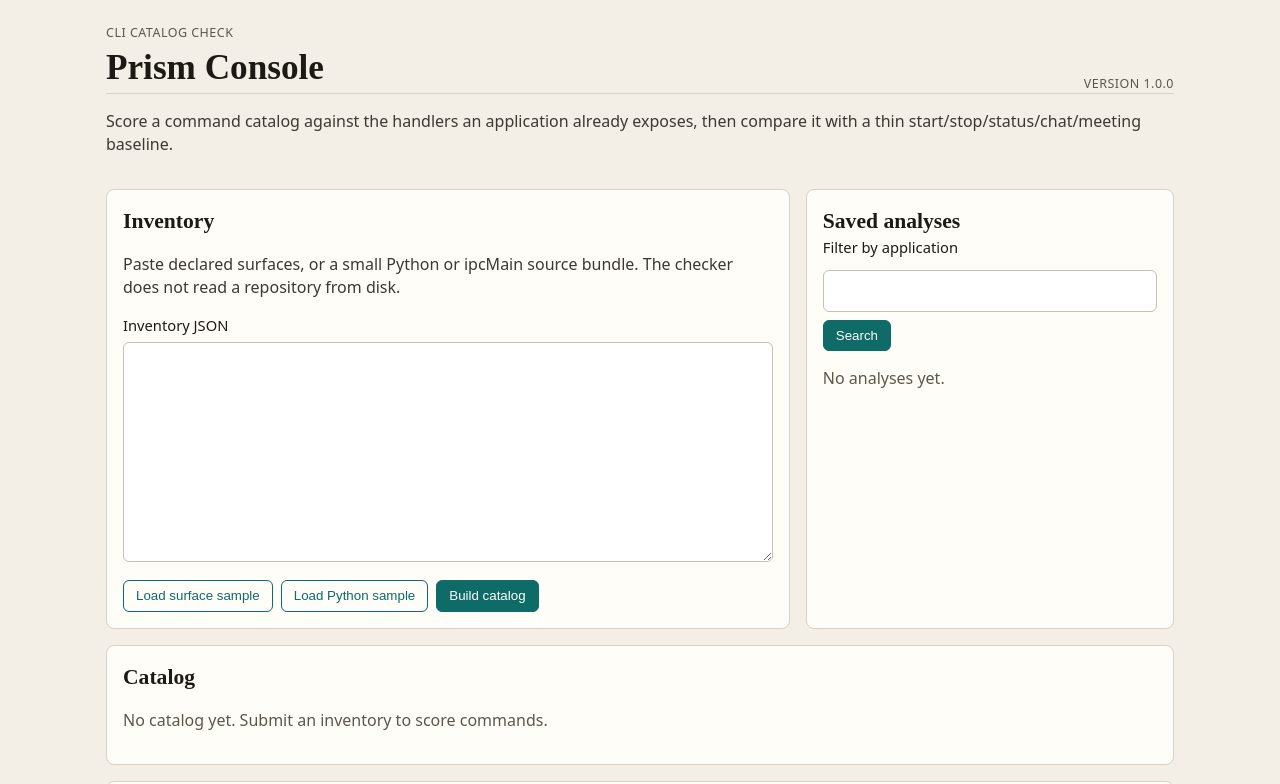
Scenario: rejects inventory text that is not JSON
The width and height of the screenshot is (1280, 784).
Expected: the text "No analyses yet." is shown, [823,367,945,389]
In the text box labelled "Inventory JSON": (448, 452) [123,342,773,562], type "not-json"
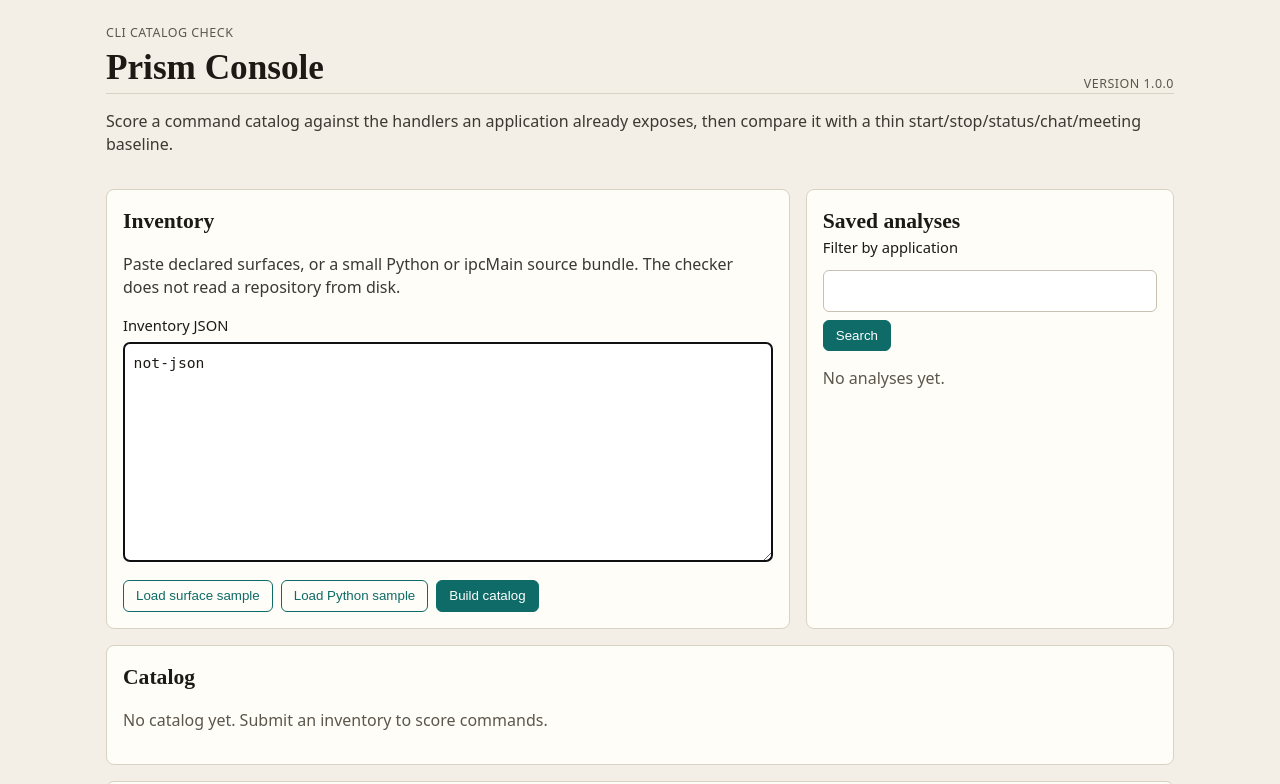
Click the button "Build catalog": (487, 596) [436,580,539,612]
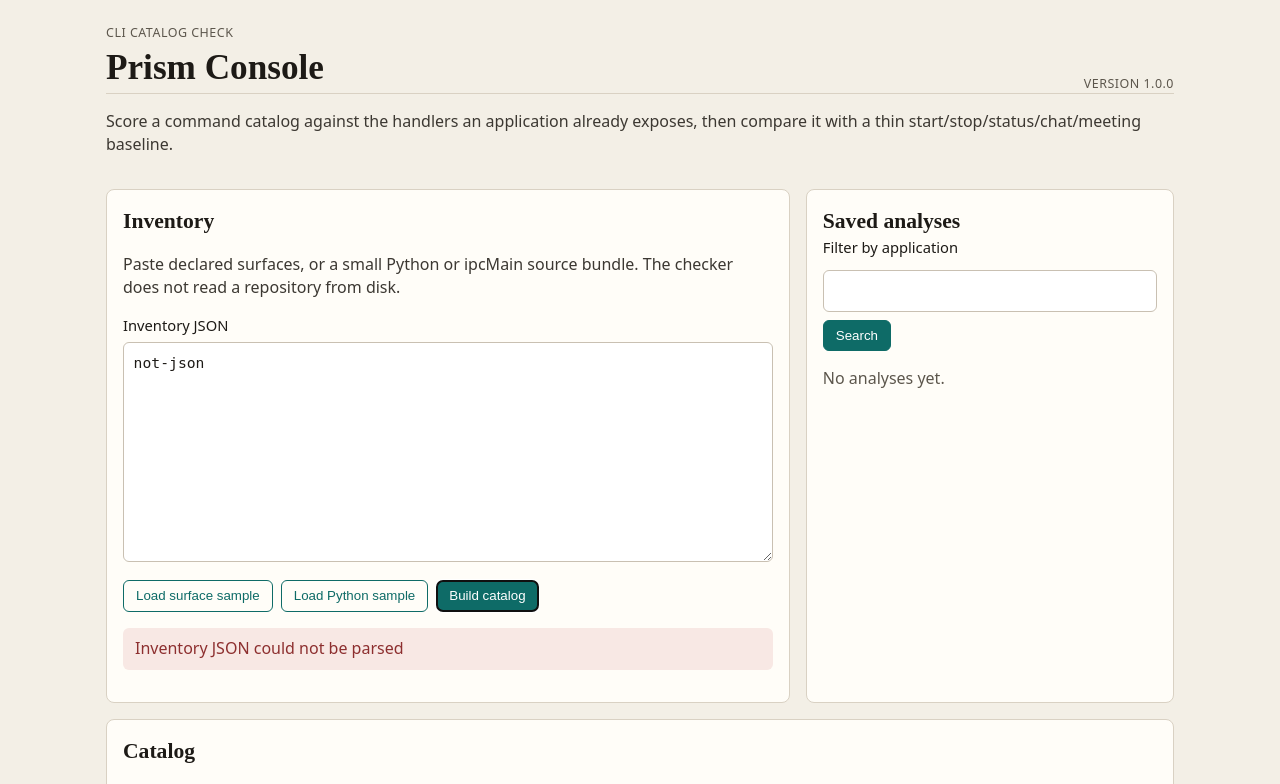
Now the message reads "Inventory JSON could not be parsed", box [135,637,404,659]
